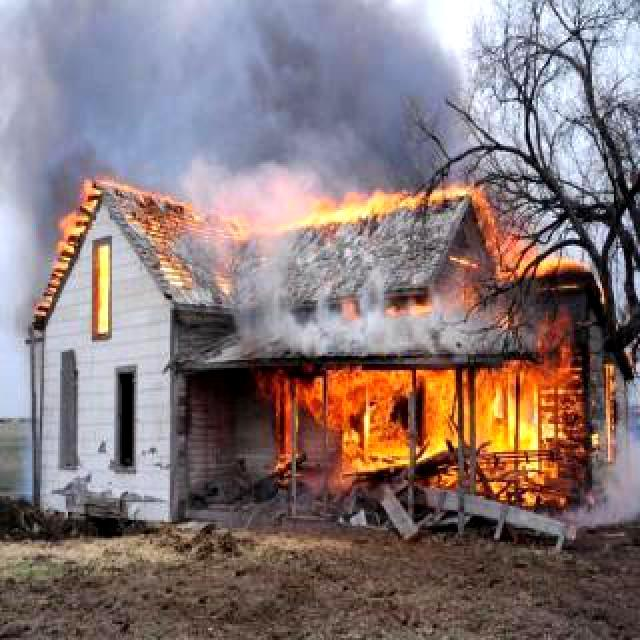helmet: (260, 362, 561, 501), (31, 180, 109, 335), (125, 190, 239, 291), (296, 182, 496, 230)
no_helmet: (13, 0, 468, 197)
